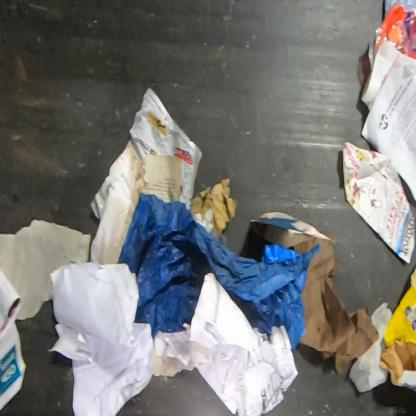cardboard: (250, 212, 380, 376), (379, 266, 416, 392), (190, 179, 238, 235)
soft_plastic: (117, 192, 321, 352), (368, 0, 415, 73)
